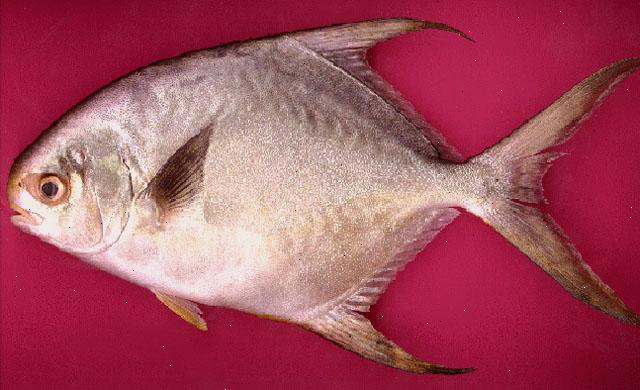Mulut: (1, 183, 44, 253)
Sirip Anal: (347, 192, 471, 314)
Sirip Dada: (114, 102, 236, 249)
Sirip Ekor: (479, 44, 640, 339)
Sirip Perut: (132, 272, 228, 348)
Sirip Punggung: (282, 8, 474, 164)
